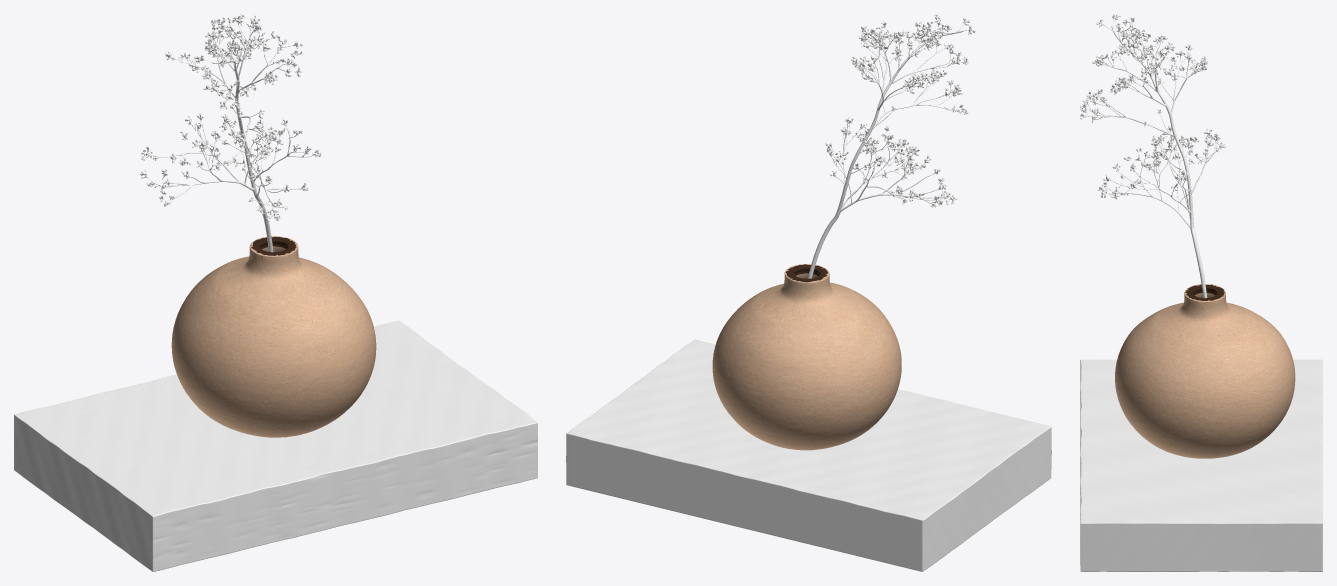
Rendered from pot_vase_and_base.glb.
The picture shows the model from 3 angles, left to right: view 1: azimuth 30°, elevation 25°; view 2: azimuth 150°, elevation 25°; view 3: azimuth 270°, elevation 25°; orthographic projection. The views are drawn at different scales.
Visible parts, largest first — view 1: Rough_Clay_Rectangular_Base, Meshy_Mesh1.0; view 2: Rough_Clay_Rectangular_Base, Meshy_Mesh1.0; view 3: Rough_Clay_Rectangular_Base, Meshy_Mesh1.0.
Part boxes in pixels (box(x1,y1,x2,y2)): Rough_Clay_Rectangular_Base: box(14, 320, 537, 571); Meshy_Mesh1.0: box(140, 14, 376, 437); Rough_Clay_Rectangular_Base: box(566, 339, 1051, 571); Meshy_Mesh1.0: box(712, 14, 975, 450); Rough_Clay_Rectangular_Base: box(1080, 359, 1322, 571); Meshy_Mesh1.0: box(1080, 14, 1295, 458).
Size of the model in its own units: 1.76 by 2.15 by 1.1.
Materials: 8 (2 with a texture image).
